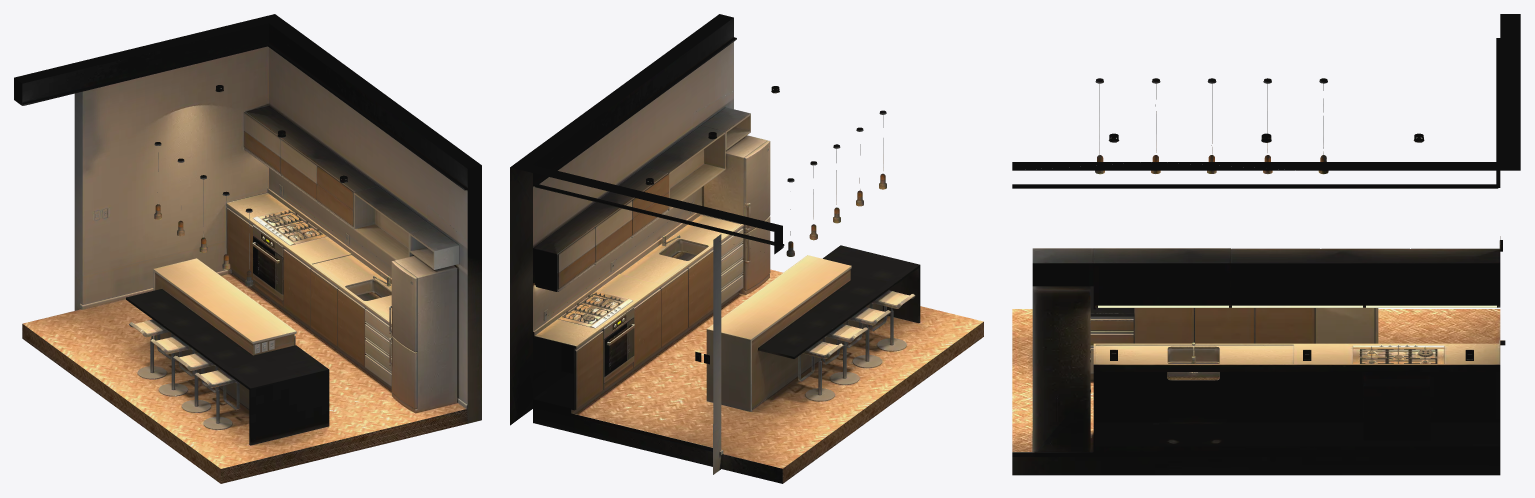
Rendered from simple_kitchen-optimized.glb.
The picture shows the model from 3 angles, left to right: view 1: azimuth 30°, elevation 25°; view 2: azimuth 150°, elevation 25°; view 3: azimuth 270°, elevation 25°; orthographic projection. The views are drawn at different scales.
Visible parts, largest first — view 1: Object720_Object720_mtl_0, Object722_Object722_mtl_0, Object725_Object725_mtl_0, Object719_Object719_mtl_0 (×2), Object724_Object724_mtl_0, Object721_Object721_mtl_0, Object723_Object723_mtl_0; view 2: Object722_Object722_mtl_0, Object720_Object720_mtl_0, Object725_Object725_mtl_0, Object719_Object719_mtl_0 (×2), Object724_Object724_mtl_0, Object721_Object721_mtl_0, Object723_Object723_mtl_0; view 3: Object724_Object724_mtl_0, Object725_Object725_mtl_0, Object719_Object719_mtl_0 (×2), Object722_Object722_mtl_0, Object720_Object720_mtl_0, Object718_Object718_mtl_0, Object723_Object723_mtl_0.
Part boxes in pixels (x1=…): Object720_Object720_mtl_0: x1=14, y1=14, x2=481, y2=412; Object722_Object722_mtl_0: x1=14, y1=79, x2=481, y2=483; Object725_Object725_mtl_0: x1=129, y1=106, x2=459, y2=429; Object719_Object719_mtl_0 (×2): x1=154, y1=112, x2=457, y2=413; Object724_Object724_mtl_0: x1=126, y1=270, x2=391, y2=445; Object721_Object721_mtl_0: x1=74, y1=172, x2=481, y2=423; Object723_Object723_mtl_0: x1=22, y1=43, x2=467, y2=409; Object722_Object722_mtl_0: x1=510, y1=14, x2=983, y2=483; Object720_Object720_mtl_0: x1=510, y1=14, x2=782, y2=425; Object725_Object725_mtl_0: x1=533, y1=107, x2=915, y2=411; Object719_Object719_mtl_0 (×2): x1=557, y1=110, x2=886, y2=409; Object724_Object724_mtl_0: x1=533, y1=245, x2=920, y2=416; Object721_Object721_mtl_0: x1=510, y1=90, x2=733, y2=474; Object723_Object723_mtl_0: x1=533, y1=37, x2=882, y2=455; Object724_Object724_mtl_0: x1=1090, y1=286, x2=1500, y2=452; Object725_Object725_mtl_0: x1=1032, y1=248, x2=1500, y2=380; Object719_Object719_mtl_0 (×2): x1=1032, y1=78, x2=1499, y2=451; Object722_Object722_mtl_0: x1=1012, y1=162, x2=1500, y2=475; Object720_Object720_mtl_0: x1=1012, y1=14, x2=1520, y2=451; Object718_Object718_mtl_0: x1=1096, y1=236, x2=1502, y2=360; Object723_Object723_mtl_0: x1=1012, y1=38, x2=1505, y2=456.
Size of the model in its own units: 3.64 by 3.4 by 5.
8 materials, 8 textured.
